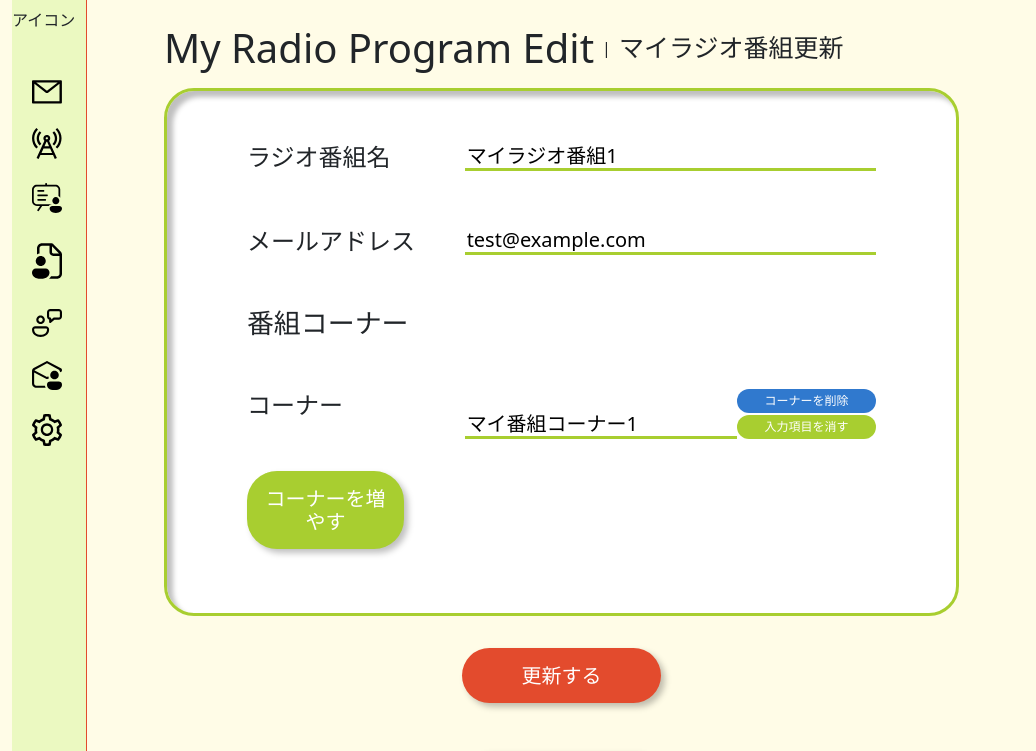
マイラジオ番組個別 › メールアドレスのフォーマットが異なっているとバリデーションメッセージが表示される
Replace the text in the field with test id "my-radio-program-input-email" with "test" at (670,241), box x1=465 y1=227 x2=876 y2=255
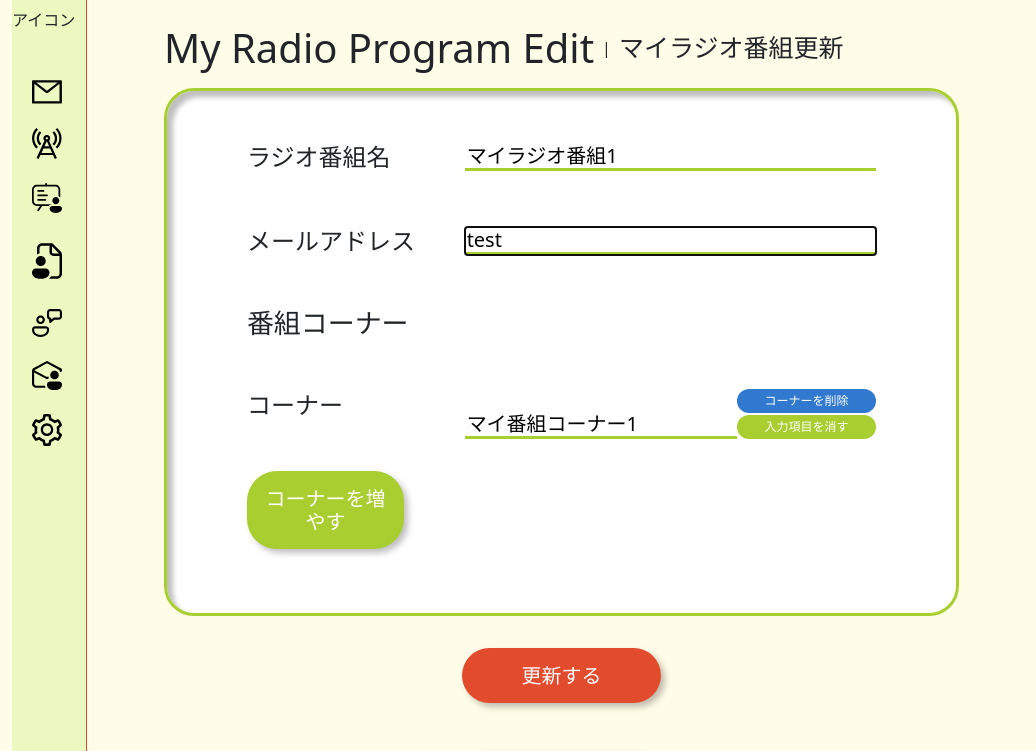
Click the button with test id "my-radio-program-button-edit" at (562,675), box x1=462 y1=648 x2=661 y2=703
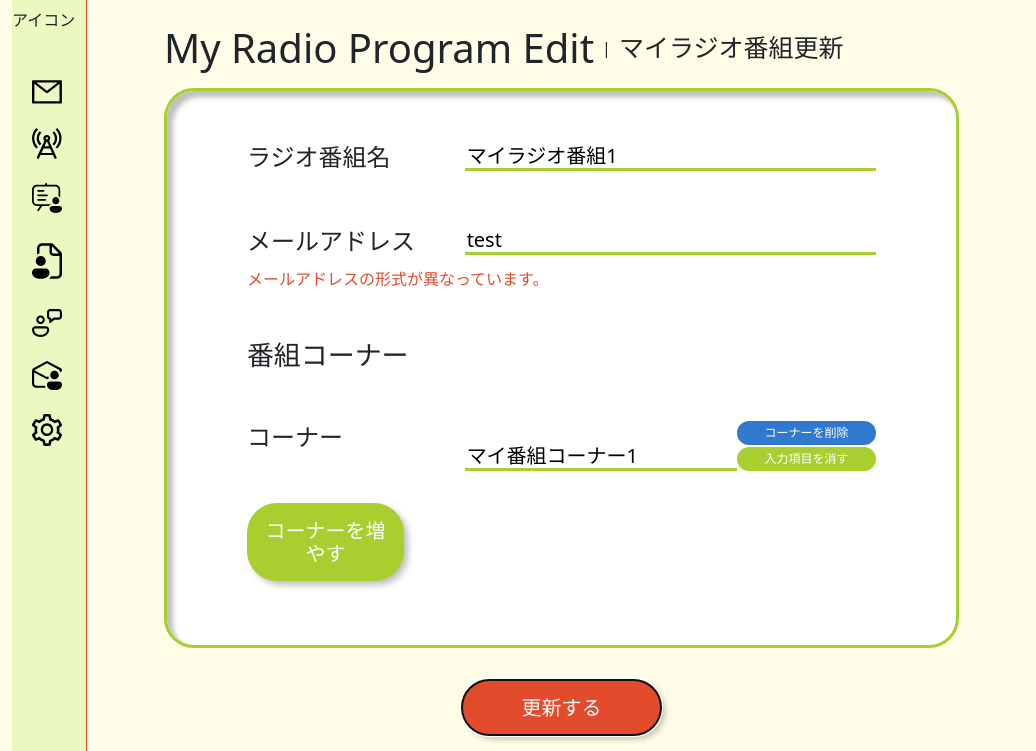
Result: the text "メールアドレスの形式が異なっています。" is shown at x1=247 y1=268 x2=548 y2=290
